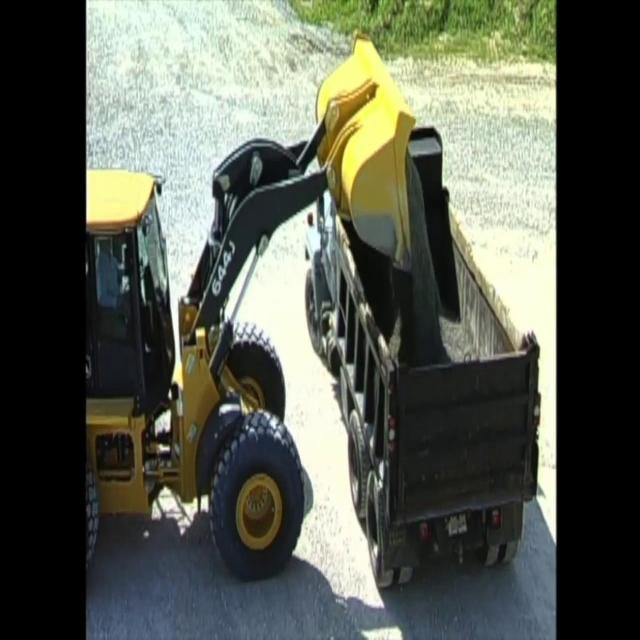buldozerpayloadergrader: (76, 20, 416, 598)
dump_truck: (298, 99, 547, 597)
